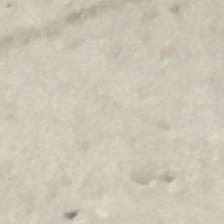Non_Crack: (21, 20, 205, 198)
